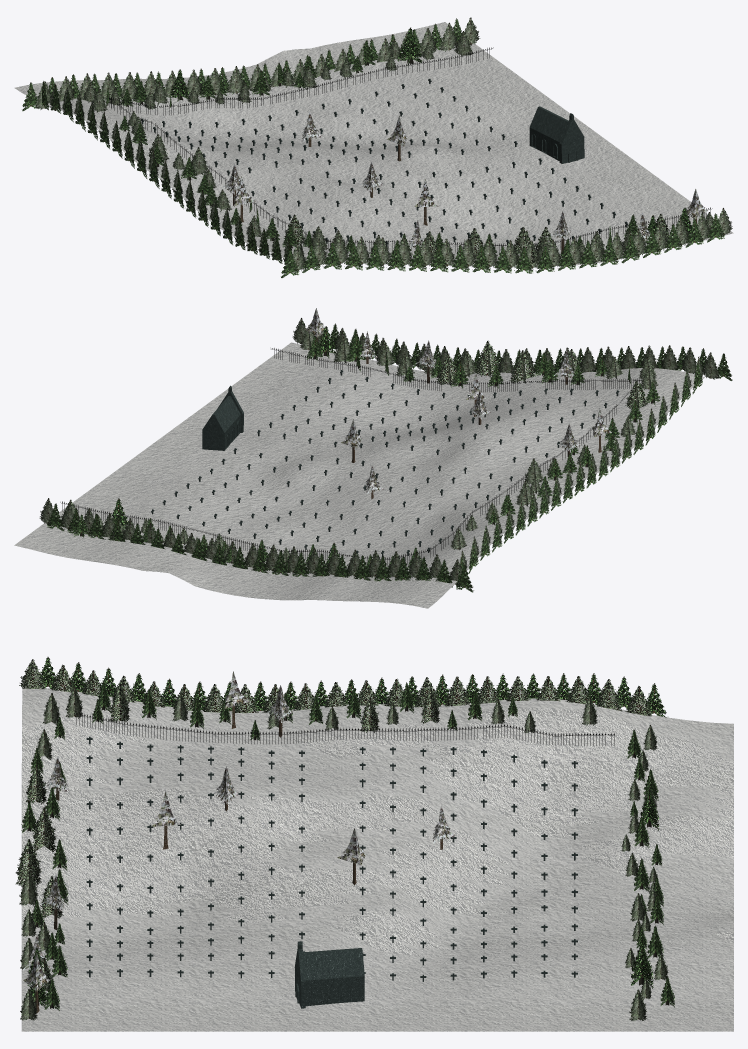
Rendered from GraveyardFull.glb.
3 views of the same model, one above another, from view 1: azimuth 30°, elevation 25°; view 2: azimuth 150°, elevation 25°; view 3: azimuth 270°, elevation 25° (orthographic). The views are drawn at different scales.
Parts seen in each view (by area): view 1: Ground, BGlayer2, BGLayer1, BGLayer1.002, BGlayer2.001, BGlayer2.002, Church, BGLayer1.001, Fence.002, Fence.001, Fence, BGTree2.040; view 2: Ground, BGlayer2.002, BGLayer1.002, BGLayer1, BGlayer2.001, BGlayer2, BGLayer1.001, Church, Fence, Fence.002, Fence.001, BGTree.005; view 3: Ground, BGLayer1.001, BGlayer2.001, Church, Fence.001, BGTree.005, BGTree.006, BGTree2.040.
Part boxes in pixels (bbox=[...]): Ground: bbox=[14, 22, 733, 269]; BGlayer2: bbox=[281, 213, 724, 277]; BGLayer1: bbox=[291, 208, 732, 270]; BGLayer1.002: bbox=[35, 17, 480, 109]; BGlayer2.001: bbox=[42, 81, 292, 264]; BGlayer2.002: bbox=[22, 18, 461, 111]; Church: bbox=[529, 106, 584, 163]; BGLayer1.001: bbox=[50, 83, 305, 270]; Fence.002: bbox=[108, 47, 493, 115]; Fence.001: bbox=[109, 97, 327, 243]; Fence: bbox=[327, 207, 712, 253]; BGTree2.040: bbox=[397, 27, 423, 65]; Ground: bbox=[14, 342, 704, 608]; BGlayer2.002: bbox=[47, 503, 473, 592]; BGLayer1.002: bbox=[39, 498, 463, 585]; BGLayer1: bbox=[292, 318, 719, 379]; BGlayer2.001: bbox=[456, 363, 702, 587]; BGlayer2: bbox=[313, 323, 732, 380]; BGLayer1.001: bbox=[459, 357, 703, 567]; Church: bbox=[202, 385, 243, 450]; Fence: bbox=[271, 348, 640, 391]; Fence.002: bbox=[60, 501, 429, 566]; Fence.001: bbox=[429, 380, 639, 557]; BGTree.005: bbox=[474, 340, 499, 377]; Ground: bbox=[21, 687, 733, 1031]; BGLayer1.001: bbox=[19, 659, 651, 716]; BGlayer2.001: bbox=[40, 657, 666, 717]; Church: bbox=[294, 941, 364, 1008]; Fence.001: bbox=[74, 712, 614, 745]; BGTree.005: bbox=[15, 839, 41, 886]; BGTree.006: bbox=[32, 807, 56, 852]; BGTree2.040: bbox=[630, 940, 653, 988].
Bounding box in the file's own units: 87 × 17.86 × 95.
10 materials, 10 textured.
